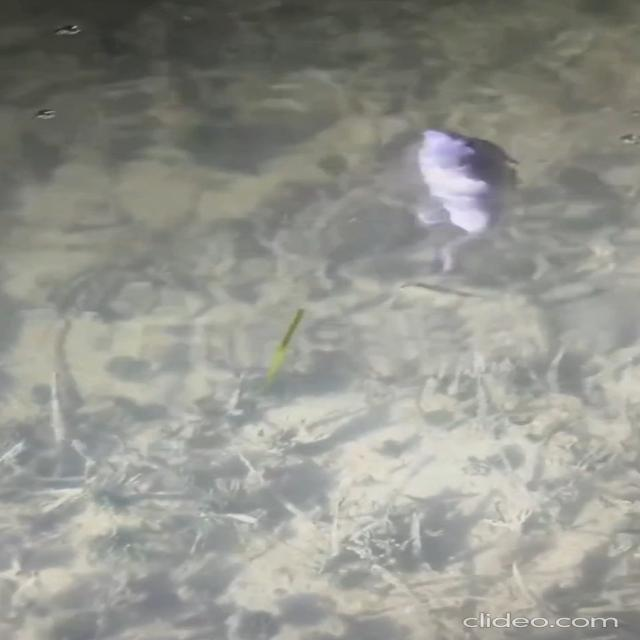fish: (394, 120, 528, 250)
